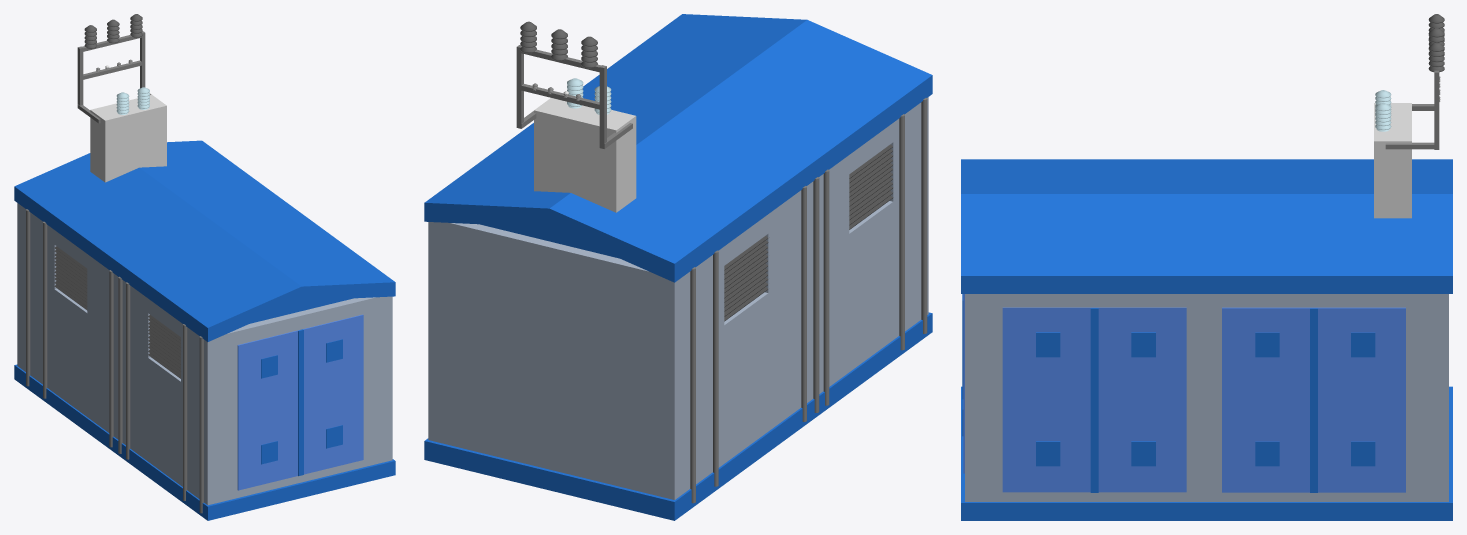
Rendered from budka.fbx.
The picture shows the model from 3 angles, left to right: view 1: azimuth 30°, elevation 25°; view 2: azimuth 150°, elevation 25°; view 3: azimuth 270°, elevation 25°; orthographic projection. The views are drawn at different scales.
Visible parts, largest first — view 1: Cube.417; view 2: Cube.417; view 3: Cube.417.
Boxes of the visible parts, <box> form: Cube.417: <box>14,14,395,520</box>; Cube.417: <box>424,14,932,520</box>; Cube.417: <box>961,14,1452,520</box>.
Size of the model in its own units: 190 by 326 by 335.
